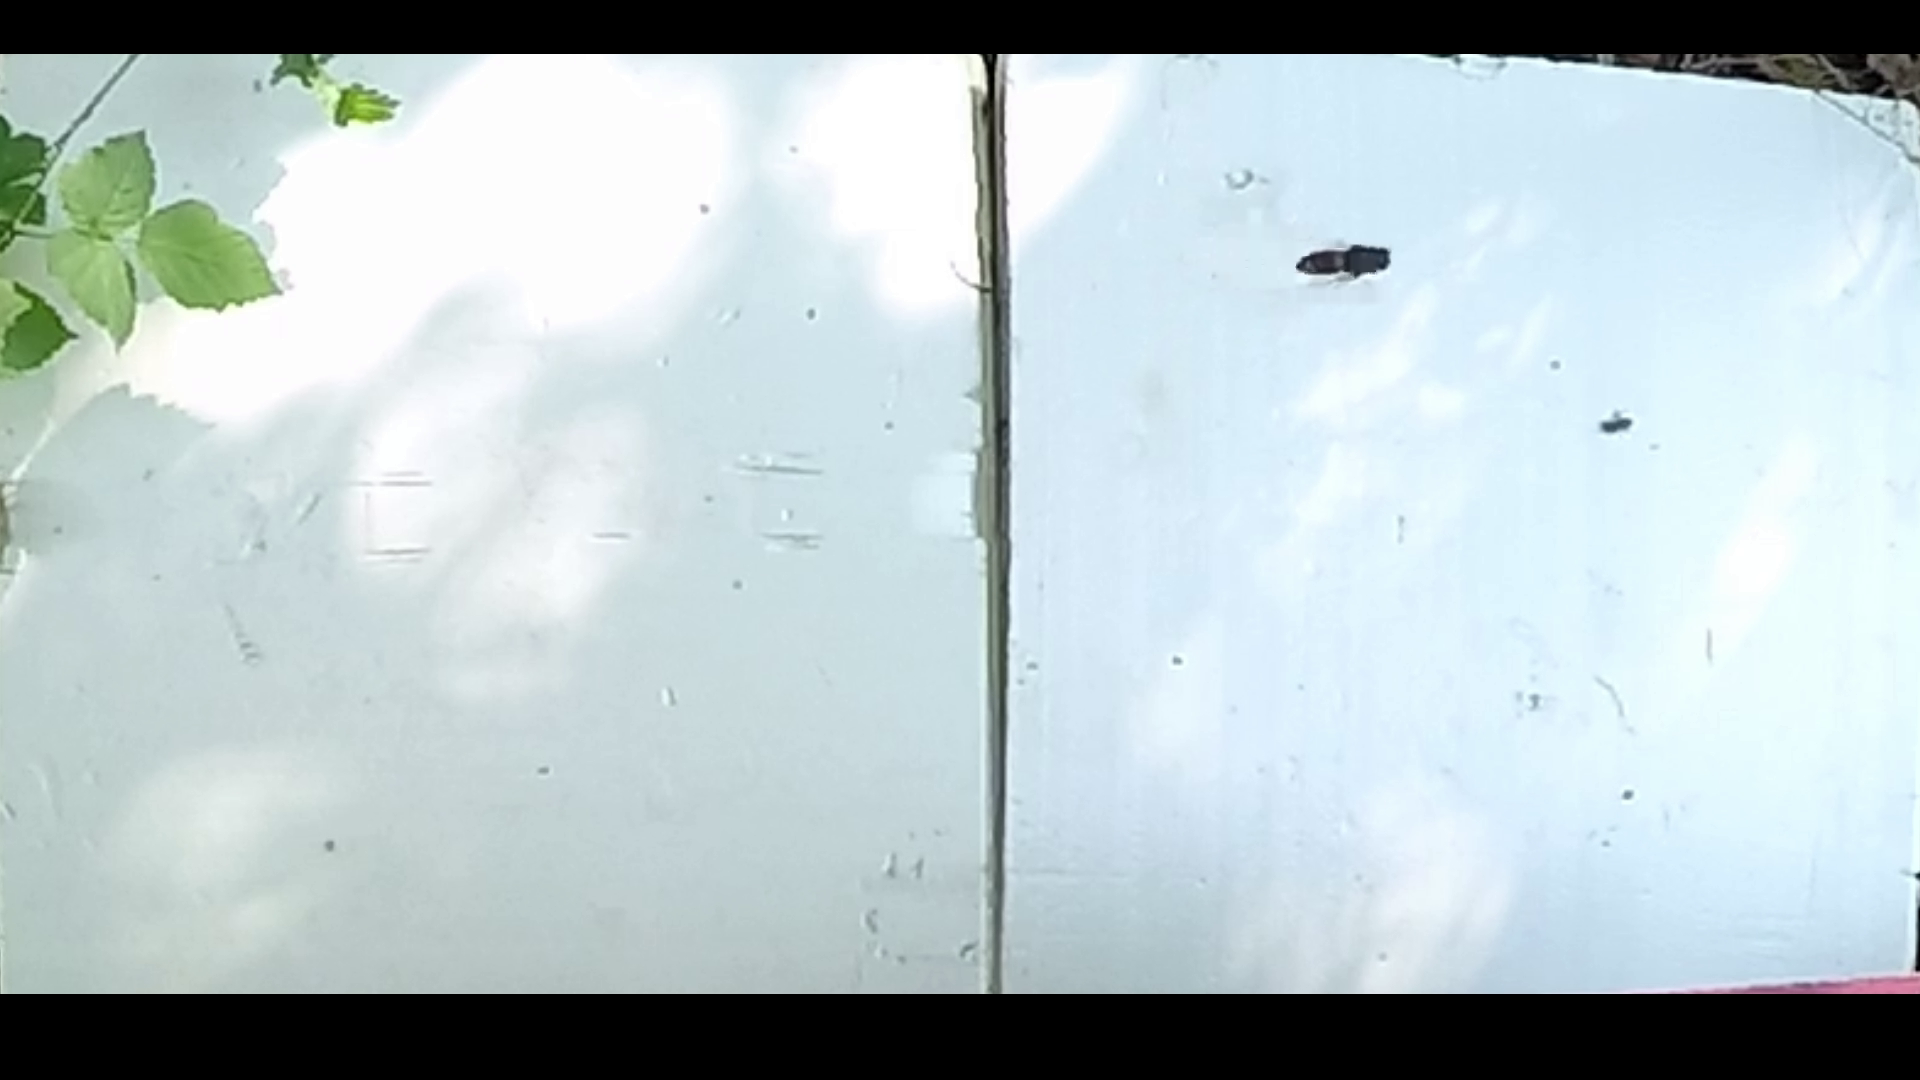Asian_hornets: (1279, 220, 1408, 307)
